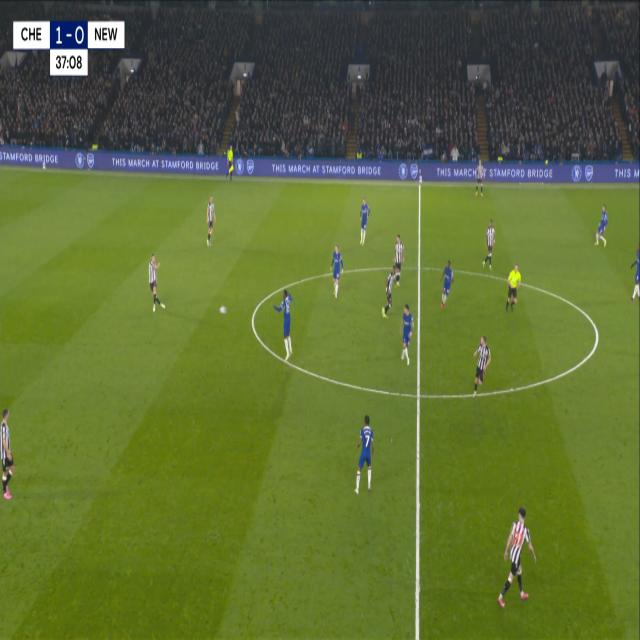Ball: (218, 304, 227, 316)
Chelsea: (352, 410, 378, 497), (271, 284, 297, 364), (398, 298, 416, 372), (437, 256, 457, 315), (591, 198, 611, 255), (328, 240, 346, 301), (357, 193, 371, 252)
New castle: (495, 502, 539, 612), (0, 399, 18, 504), (145, 248, 167, 317), (471, 330, 493, 398), (481, 216, 498, 276), (380, 264, 398, 320), (203, 190, 218, 250), (474, 158, 485, 199), (393, 228, 405, 265)
Refree: (502, 256, 523, 322)
